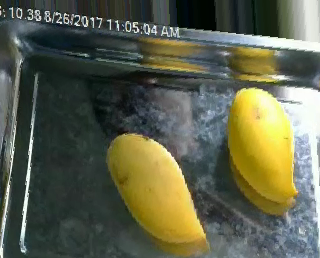Mango: (108, 132, 206, 241), (226, 88, 297, 205)
